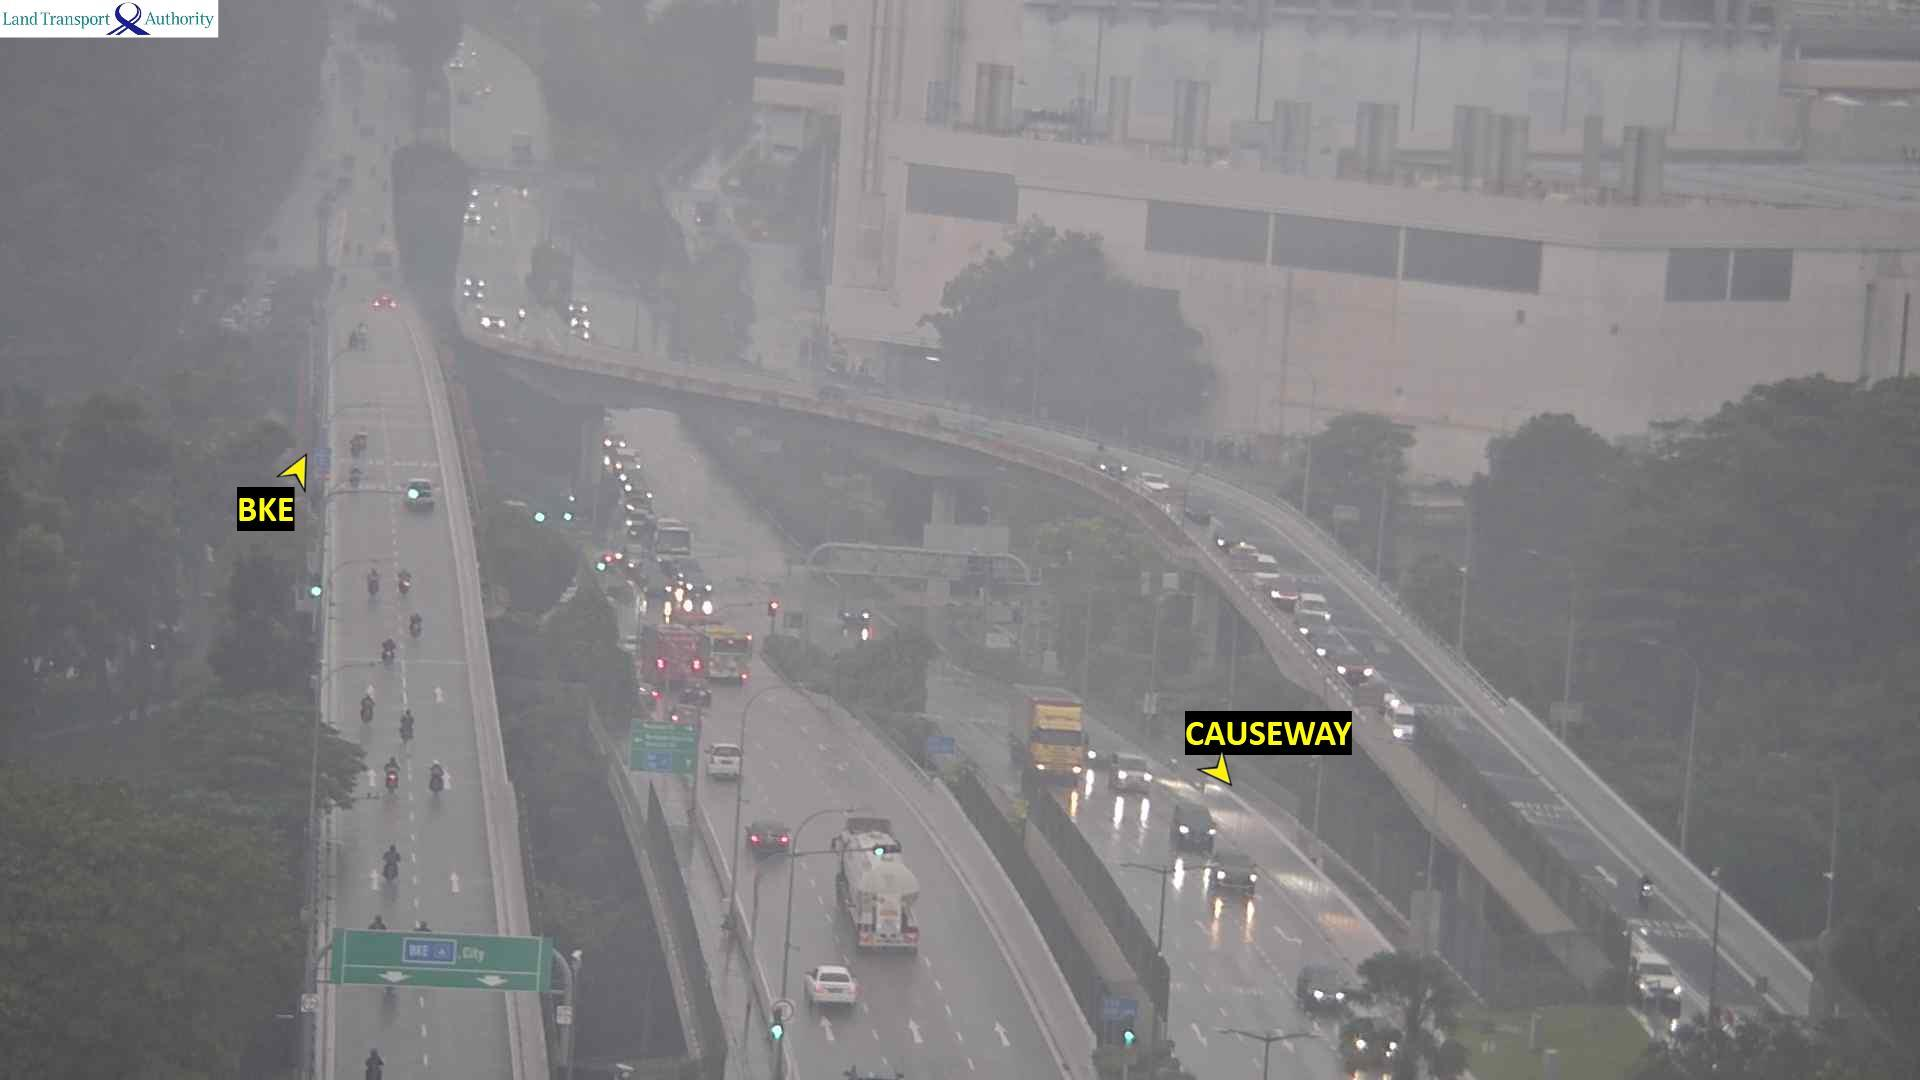vehicle-causeway-johor: (1011, 684, 1084, 781), (1344, 1019, 1399, 1077), (1299, 964, 1344, 1011), (1108, 750, 1154, 795), (1172, 804, 1215, 853), (1212, 852, 1258, 889), (1386, 705, 1418, 740), (1336, 653, 1374, 680), (1250, 554, 1279, 588), (1267, 578, 1299, 607), (1295, 592, 1327, 620), (1089, 456, 1125, 477), (1296, 611, 1327, 634), (1139, 476, 1171, 496), (465, 276, 487, 303), (1317, 636, 1345, 653), (484, 314, 502, 330), (518, 306, 527, 320)
vehicle-causeway-singapore: (836, 849, 916, 951), (644, 625, 700, 682), (700, 616, 752, 675), (806, 965, 862, 1005), (746, 824, 798, 852), (405, 479, 433, 512), (385, 843, 402, 882), (709, 748, 738, 770), (427, 764, 446, 795), (372, 291, 397, 311), (663, 709, 690, 728), (709, 766, 740, 782), (355, 699, 371, 729), (388, 761, 404, 790), (404, 713, 421, 740), (407, 611, 423, 637), (355, 436, 375, 458), (360, 694, 373, 724), (381, 638, 396, 665), (364, 1051, 376, 1080), (361, 575, 373, 600), (401, 575, 415, 593), (351, 468, 360, 487)
